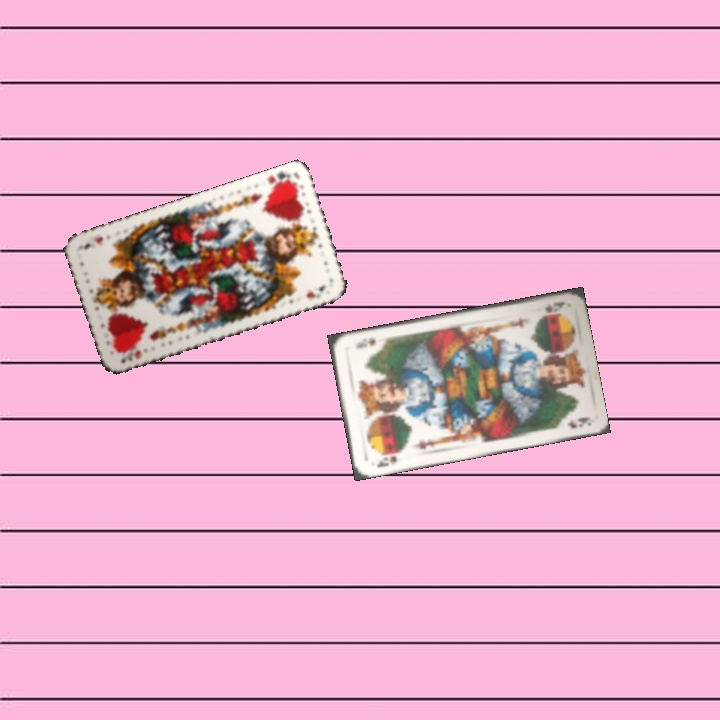HK: (263, 168, 298, 191), (114, 346, 144, 366)
SK: (372, 452, 400, 470), (541, 297, 568, 315)
